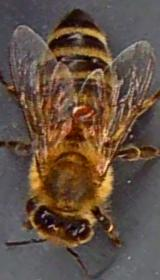varroa_mite: (65, 100, 95, 121)
